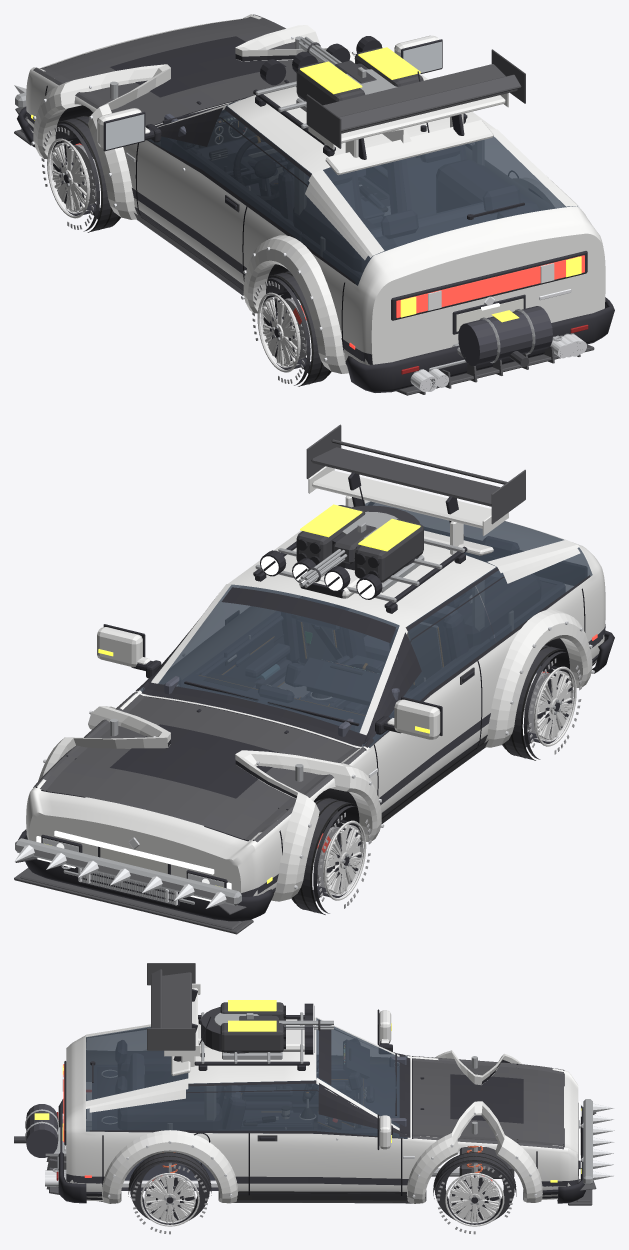
3 views of the same model, one above another, from view 1: azimuth 30°, elevation 25°; view 2: azimuth 150°, elevation 25°; view 3: azimuth 270°, elevation 25° (orthographic). The views are drawn at different scales.
Parts seen in each view (by area): view 1: BODY, PART_flares_widebody, PART_hood_carbon, PART_spoiler_gt, MESH_DRIVER_WINDOW, PART_weapon_oil, PART_hood_vent, PART_weapon_rockets, PART_spoiler_lip, PART_roof_rack, WHEEL_FL, WHEEL_RL (+10 smaller); view 2: BODY, PART_hood_carbon, PART_flares_widebody, PART_spoiler_gt, PART_hood_vent, MESH_DRIVER_WINDOW, PART_weapon_rockets, PART_roof_rack, PART_spoiler_wing, PART_weapon_spikes, WHEEL_FL, WHEEL_RL (+7 smaller); view 3: BODY, PART_flares_widebody, PART_hood_carbon, PART_spoiler_gt, PART_weapon_rockets, PART_hood_vent, PART_roof_rack, WHEEL_FR, WHEEL_RR, PART_weapon_oil, PART_weapon_spikes, PART_skirt_aero (+9 smaller).
Part boxes in pixels (x1,y1,x2,y2): BODY: (17, 14, 614, 392); PART_flares_widebody: (31, 25, 565, 373); PART_hood_carbon: (33, 14, 319, 126); PART_spoiler_gt: (306, 49, 525, 159); MESH_DRIVER_WINDOW: (148, 106, 290, 217); PART_weapon_oil: (452, 306, 552, 366); PART_hood_vent: (110, 36, 286, 97); PART_weapon_rockets: (296, 47, 423, 111); PART_spoiler_lip: (325, 120, 493, 175); PART_roof_rack: (253, 36, 467, 156); WHEEL_FL: (41, 115, 120, 232); WHEEL_RL: (252, 271, 331, 386); BODY: (18, 486, 614, 921); PART_hood_carbon: (33, 692, 365, 842); PART_flares_widebody: (38, 609, 594, 901); PART_spoiler_gt: (306, 424, 525, 538); PART_hood_vent: (110, 724, 278, 798); MESH_DRIVER_WINDOW: (366, 582, 495, 747); PART_weapon_rockets: (296, 504, 424, 592); PART_roof_rack: (253, 505, 467, 613); PART_spoiler_wing: (308, 466, 508, 554); PART_weapon_spikes: (14, 838, 241, 908); WHEEL_FL: (291, 798, 371, 914); WHEEL_RL: (502, 645, 581, 760); BODY: (52, 1009, 585, 1203); PART_flares_widebody: (102, 1050, 542, 1203); PART_hood_carbon: (412, 1056, 563, 1149); PART_spoiler_gt: (147, 963, 197, 1061); PART_weapon_rockets: (220, 1000, 285, 1059); PART_hood_vent: (450, 1074, 523, 1123); PART_roof_rack: (194, 1003, 314, 1070); WHEEL_FR: (433, 1152, 516, 1234); WHEEL_RR: (128, 1152, 211, 1234); PART_weapon_oil: (14, 1104, 66, 1157); PART_weapon_spikes: (583, 1099, 614, 1184); PART_skirt_aero: (233, 1195, 412, 1203).
Bounding box in the file's own units: 2.33 × 1.75 × 4.93.
